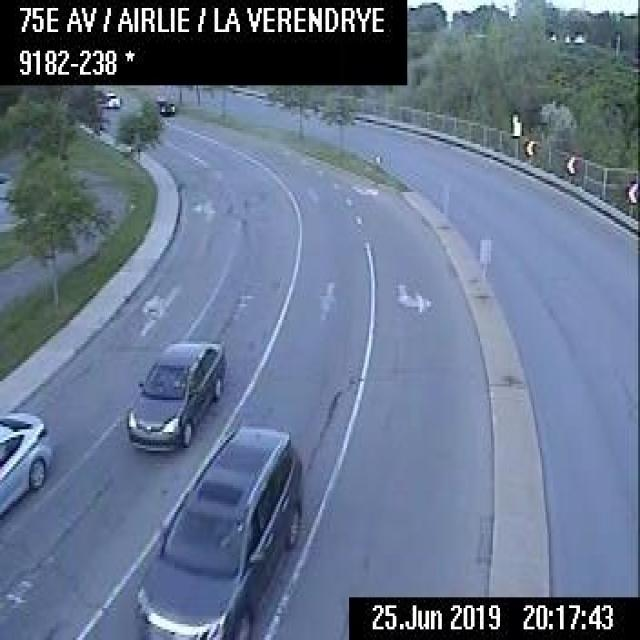vehicle: (127, 422, 304, 638), (124, 331, 225, 453), (0, 405, 53, 515), (156, 91, 173, 117), (100, 91, 120, 109)
